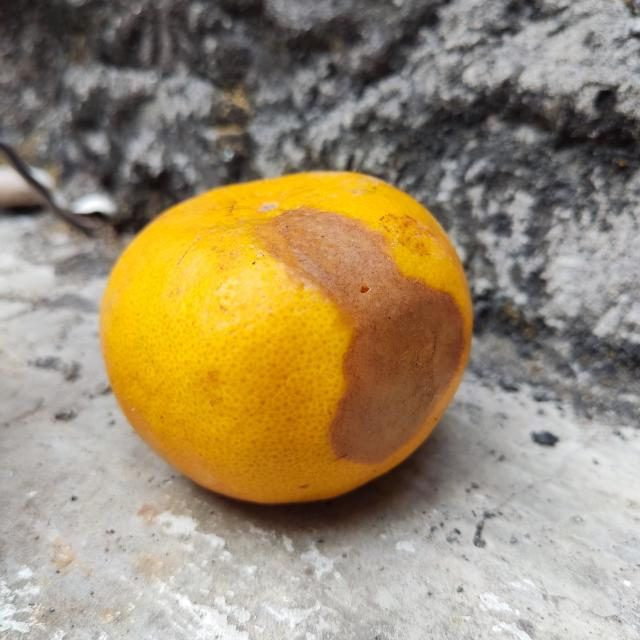orange: (98, 169, 474, 504)
